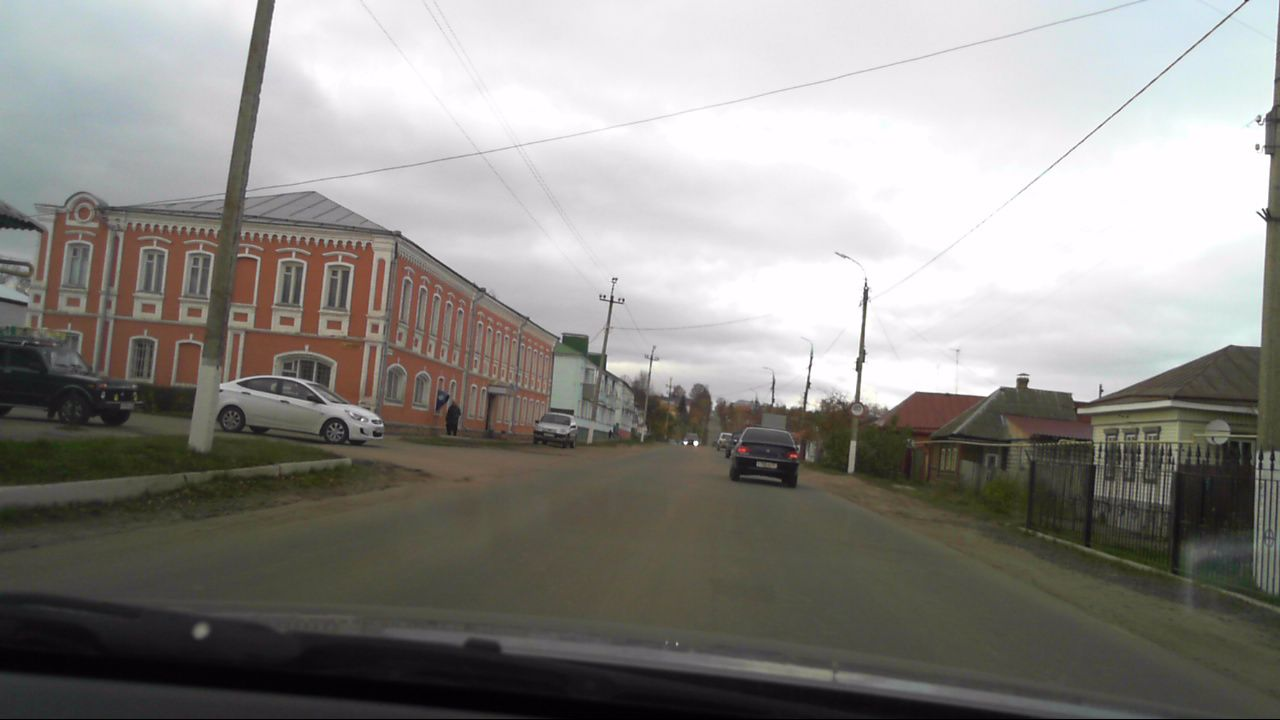speed_warning_40: (848, 400, 865, 417)
